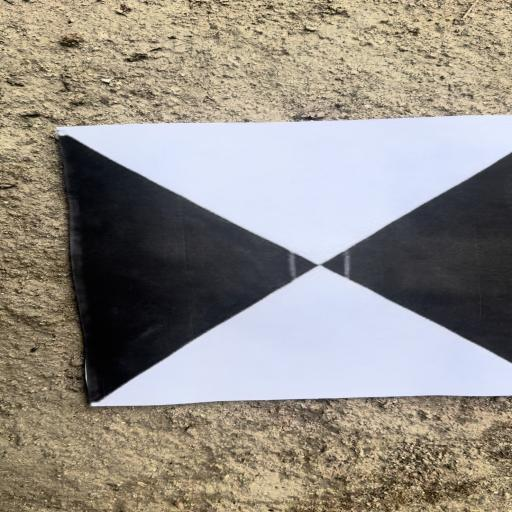target: (58, 114, 512, 405)
